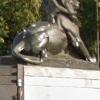Statue: (7, 1, 92, 75)
